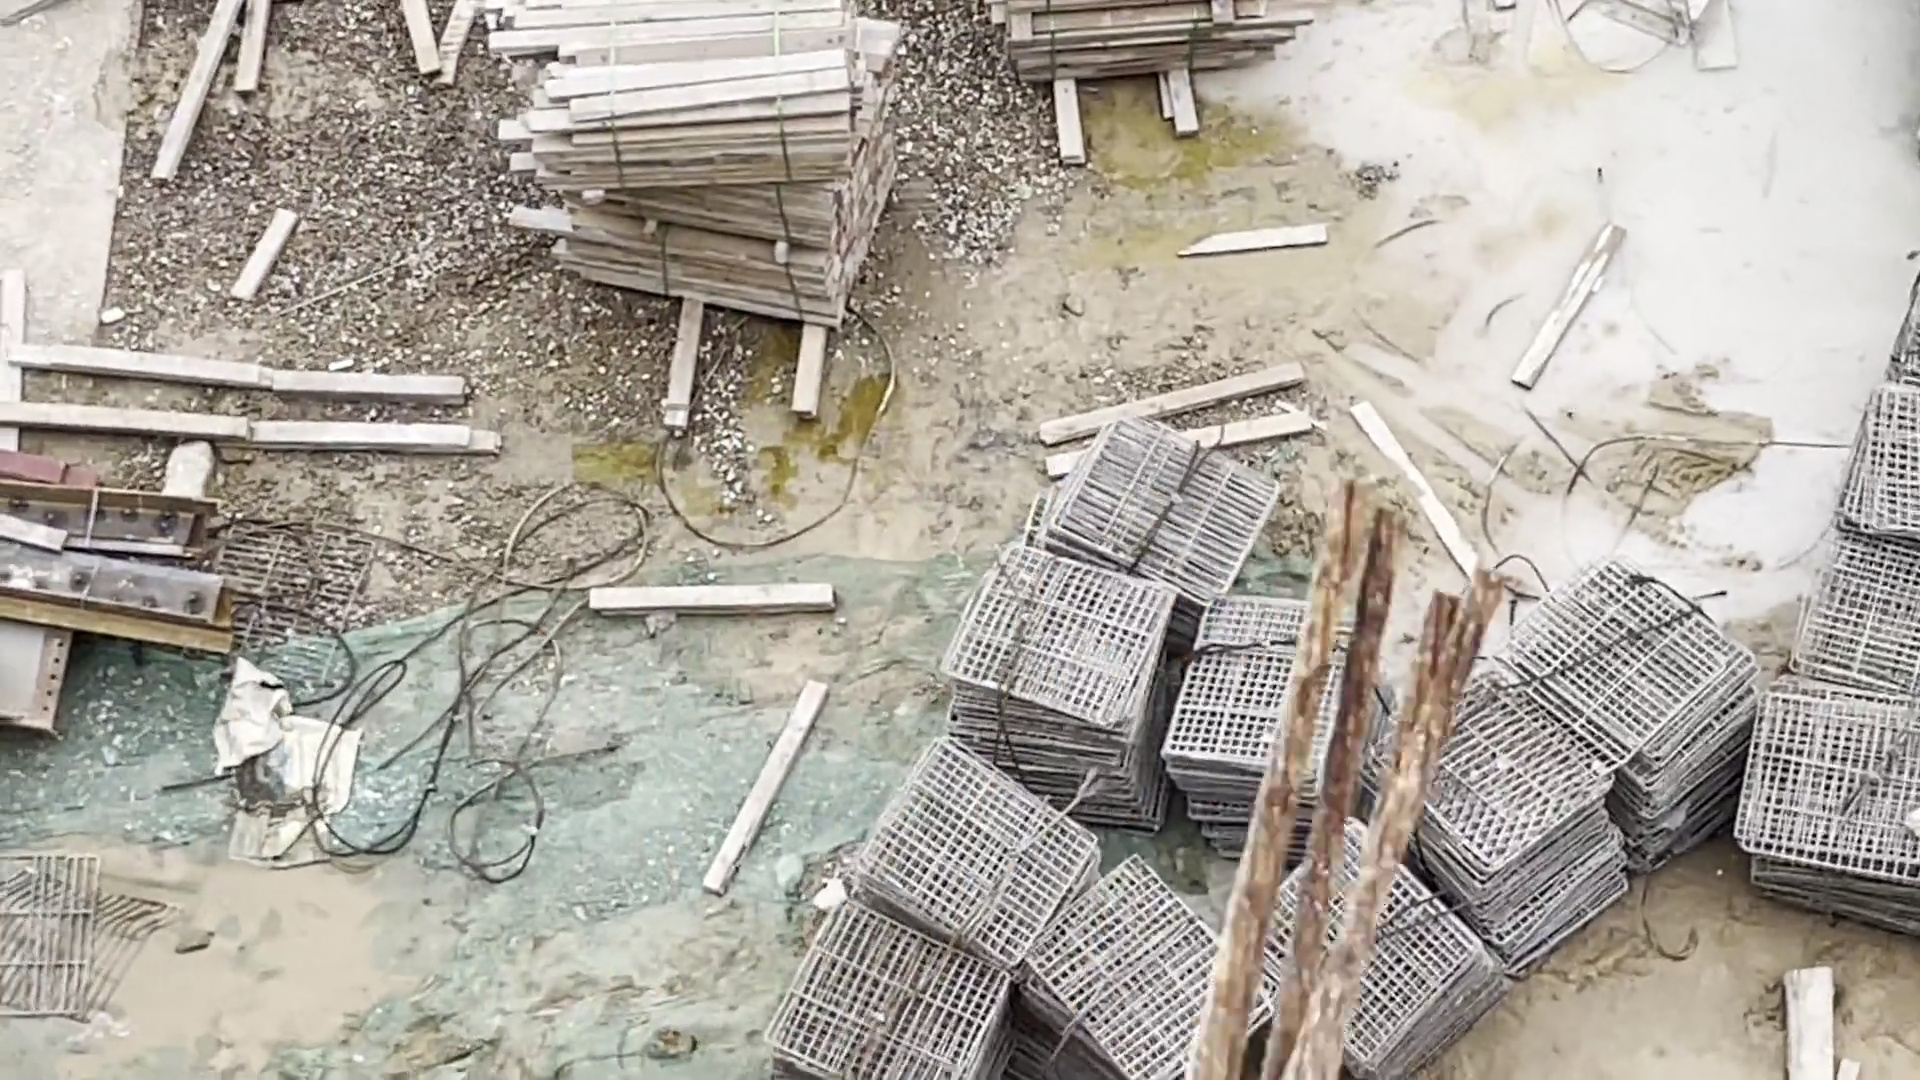wood: (487, 5, 860, 313)
